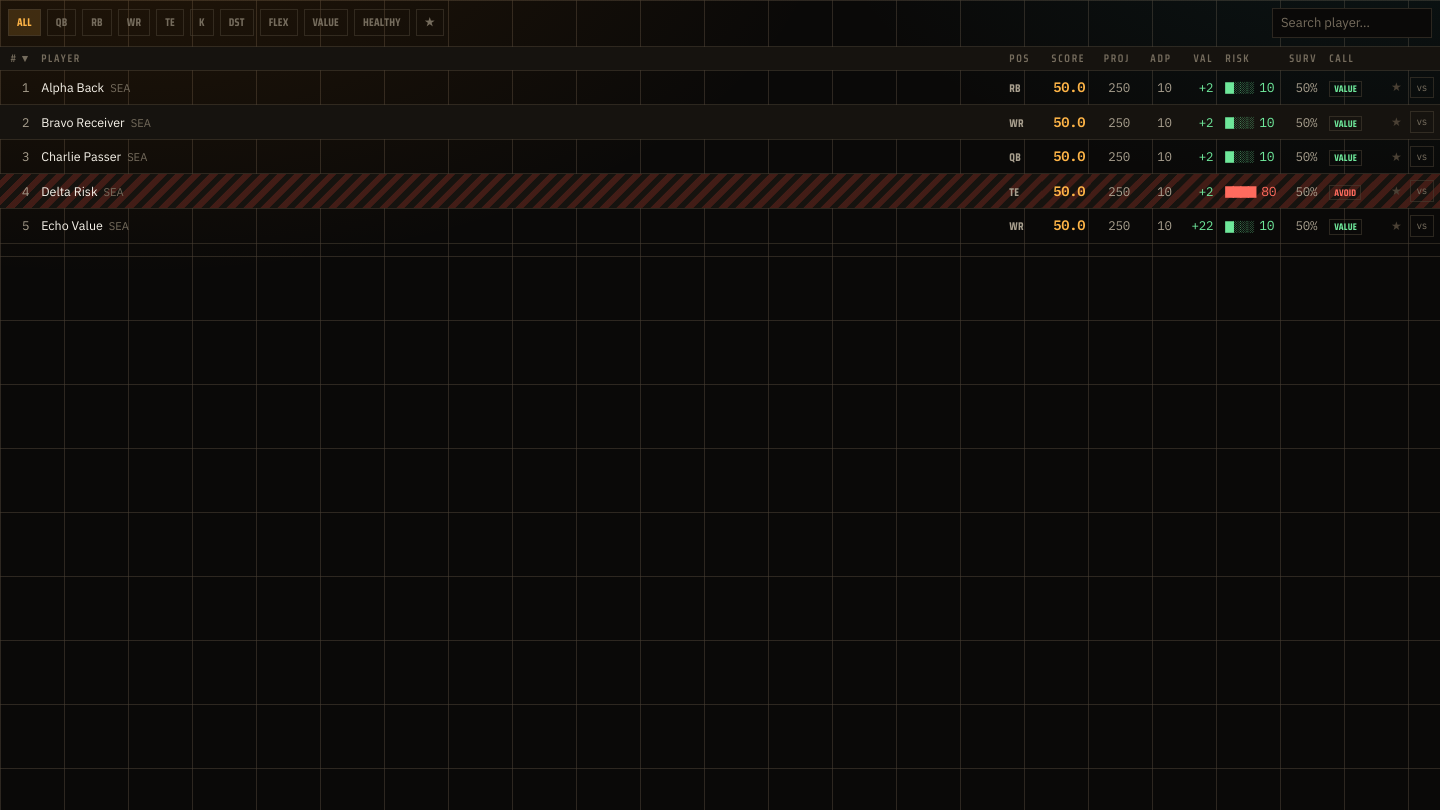
Scenario: BestAvailable › says so plainly when a filter matches nothing
Type "nobody" into the search field named "search players" at {"x": 1352, "y": 23}, box [1272, 8, 1432, 38]
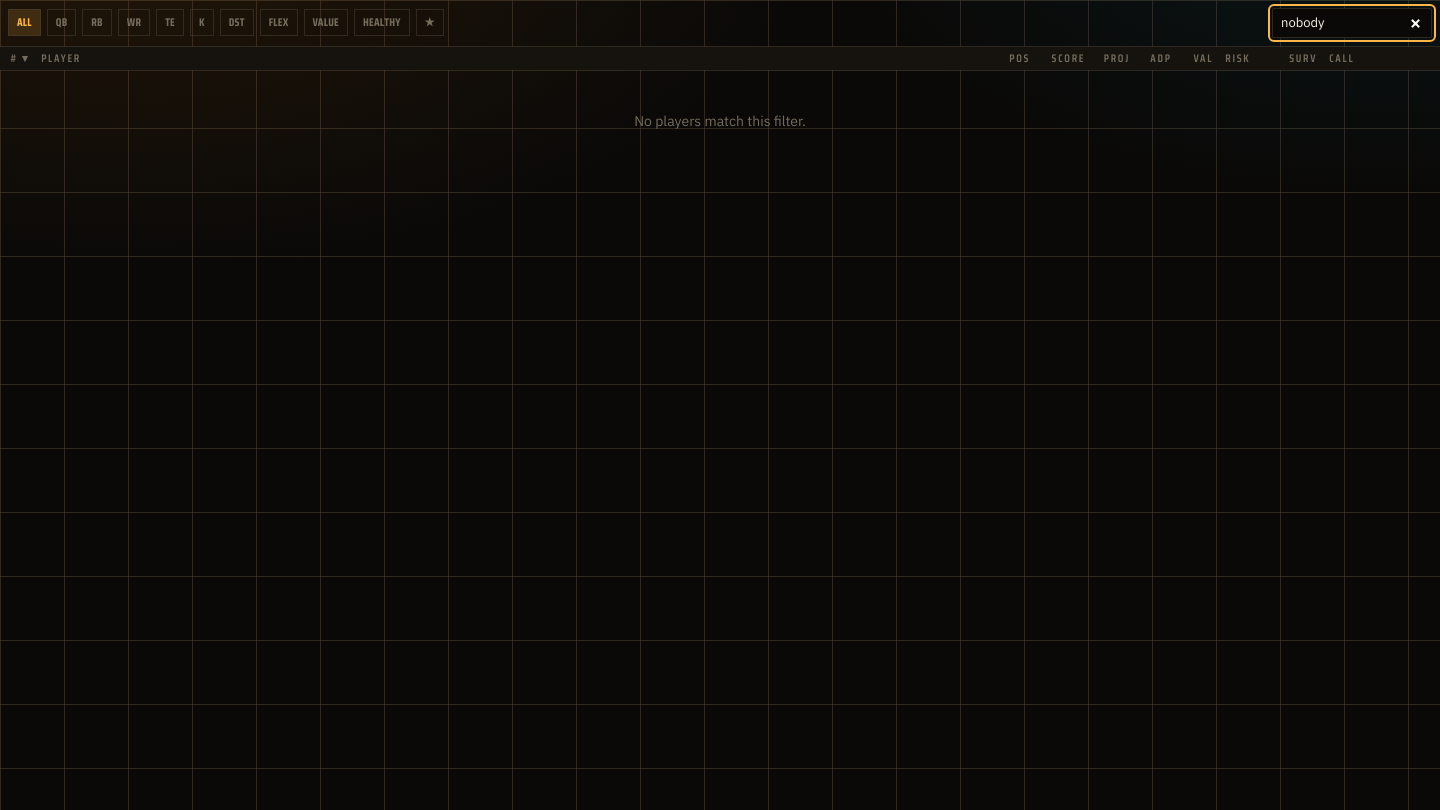
expect the text "No players match this filter." is shown: met, box [0, 70, 1439, 170]
